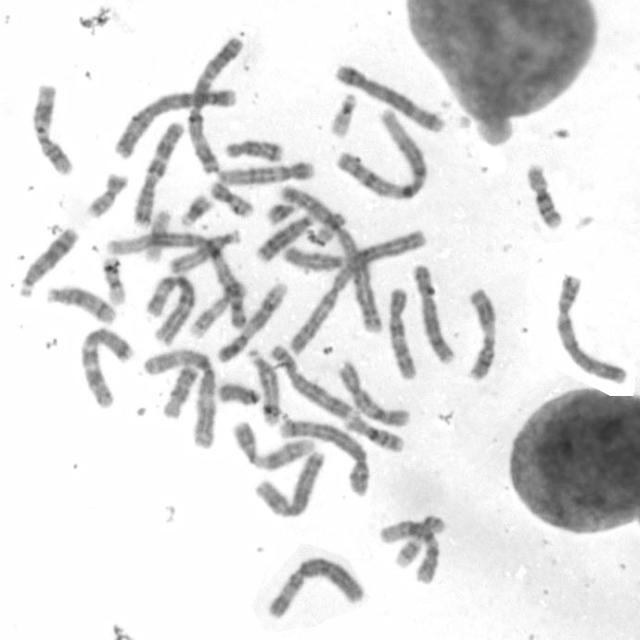A1: (102, 225, 250, 332), (332, 108, 429, 202)
A2: (282, 224, 428, 356), (274, 179, 385, 336)
A3: (182, 32, 245, 176), (141, 343, 219, 450)
B4: (109, 84, 238, 160), (551, 268, 630, 386)
B5: (331, 60, 445, 135), (276, 415, 370, 498)
C10: (335, 356, 412, 429), (384, 283, 419, 382)
C11: (28, 78, 75, 176), (462, 284, 499, 383)
C12: (376, 514, 441, 586), (214, 157, 316, 186)
C6: (262, 551, 366, 621), (141, 272, 198, 346)
C7: (129, 117, 185, 228), (75, 322, 136, 411)
C8: (271, 341, 355, 422), (409, 260, 455, 366)
C9: (214, 278, 288, 364), (230, 417, 317, 472)
D13: (15, 223, 81, 298), (252, 210, 316, 264)
D14: (42, 282, 117, 326), (244, 344, 282, 427)
D15: (165, 226, 243, 275), (281, 244, 344, 274)
E16: (522, 158, 564, 230), (340, 410, 404, 454)
E17: (185, 275, 248, 339), (391, 512, 448, 570)
E18: (156, 363, 196, 424), (222, 134, 286, 163)
F19: (140, 206, 173, 264), (99, 254, 128, 308)
F20: (82, 168, 130, 219), (207, 178, 255, 220)
G21: (176, 190, 214, 229), (262, 198, 298, 226)
G22: (325, 89, 359, 140), (309, 210, 346, 251)
X: (254, 450, 328, 520)
Y: (216, 378, 263, 407)
